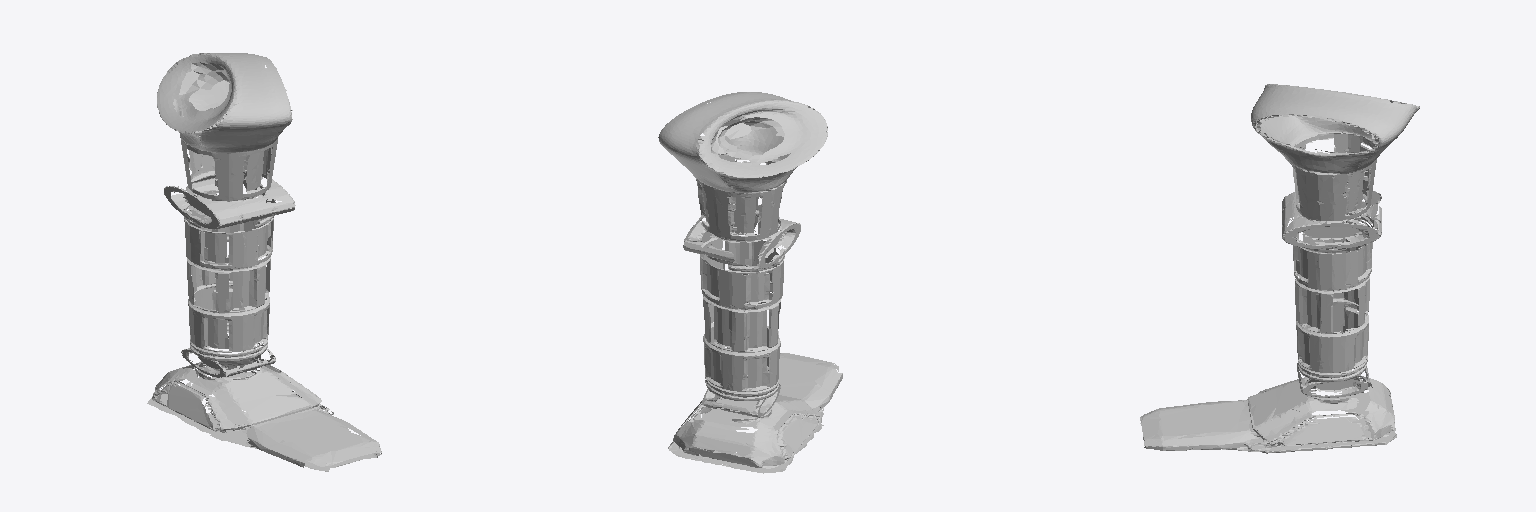
File: leftleg.obj
3 views of the same model, side by side, from view 1: azimuth 30°, elevation 25°; view 2: azimuth 150°, elevation 25°; view 3: azimuth 270°, elevation 25° (orthographic).
Visible parts, largest first — view 1: leftleg:_Users_yushiang_Desktop_K_2SO_STAR_WARS_ROGUE_ONE_ROBOT_; view 2: leftleg:_Users_yushiang_Desktop_K_2SO_STAR_WARS_ROGUE_ONE_ROBOT_; view 3: leftleg:_Users_yushiang_Desktop_K_2SO_STAR_WARS_ROGUE_ONE_ROBOT_.
Part boxes in pixels (left/top/right/bottom): leftleg:_Users_yushiang_Desktop_K_2SO_STAR_WARS_ROGUE_ONE_ROBOT_: left=147, top=53, right=381, bottom=471; leftleg:_Users_yushiang_Desktop_K_2SO_STAR_WARS_ROGUE_ONE_ROBOT_: left=658, top=92, right=842, bottom=473; leftleg:_Users_yushiang_Desktop_K_2SO_STAR_WARS_ROGUE_ONE_ROBOT_: left=1140, top=84, right=1419, bottom=453.
Size of the model in its own units: 0.577 by 1.41 by 1.08.